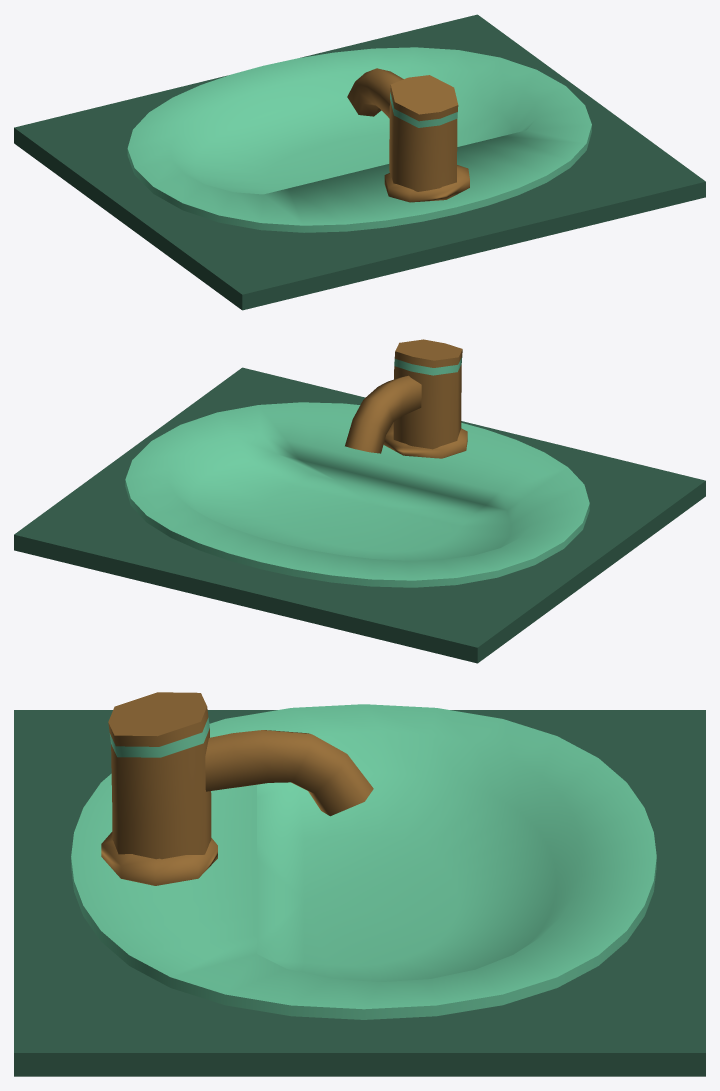
File: Prop_sci_sink1.FBX
3 views of the same model, one above another, from view 1: azimuth 30°, elevation 25°; view 2: azimuth 150°, elevation 25°; view 3: azimuth 270°, elevation 25° (orthographic). The views are drawn at different scales.
Parts seen in each view (by area): view 1: Prop_sci_sink01, Prop_sci_sink02; view 2: Prop_sci_sink01, Prop_sci_sink02; view 3: Prop_sci_sink01, Prop_sci_sink02.
Part boxes in pixels (x1,y1,x2,y2): Prop_sci_sink01: [14, 14, 705, 310]; Prop_sci_sink02: [347, 68, 469, 202]; Prop_sci_sink01: [14, 367, 705, 663]; Prop_sci_sink02: [345, 339, 467, 458]; Prop_sci_sink01: [14, 704, 705, 1076]; Prop_sci_sink02: [101, 692, 373, 885].
Size of the model in its own units: 27.39 by 7.35 by 23.37.
